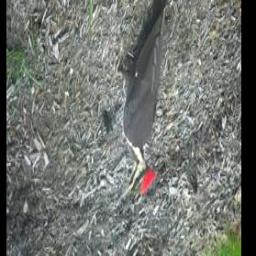Woodpecker: (112, 0, 175, 207)
